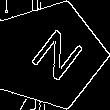N_SW: (17, 23, 82, 87)
